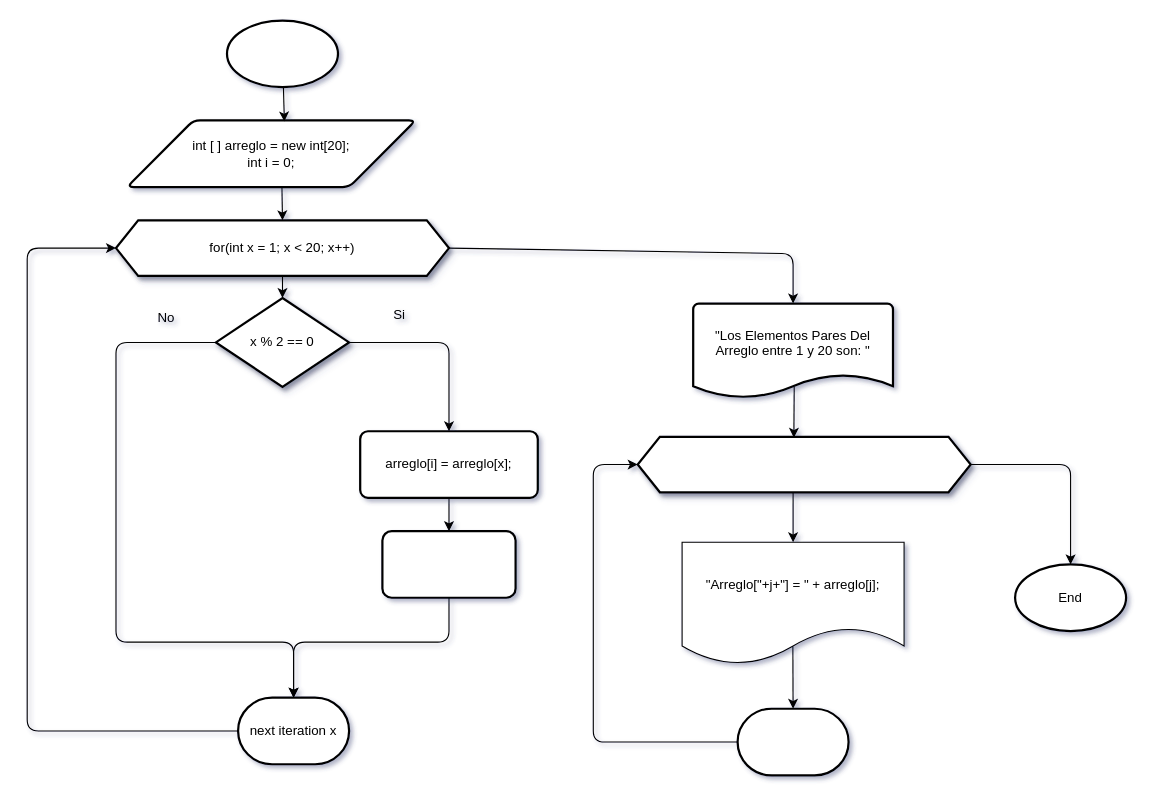
This 1153x801 diagram has some shape labels left out. The centre of each missing label's shape, as x and y in pixels:
"for(int j = 0; j < i-1; j++)" goes at (x=805, y=466).
"i++;" goes at (x=448, y=563).
"next iteration j" goes at (x=792, y=741).
"Start" goes at (x=282, y=53).
